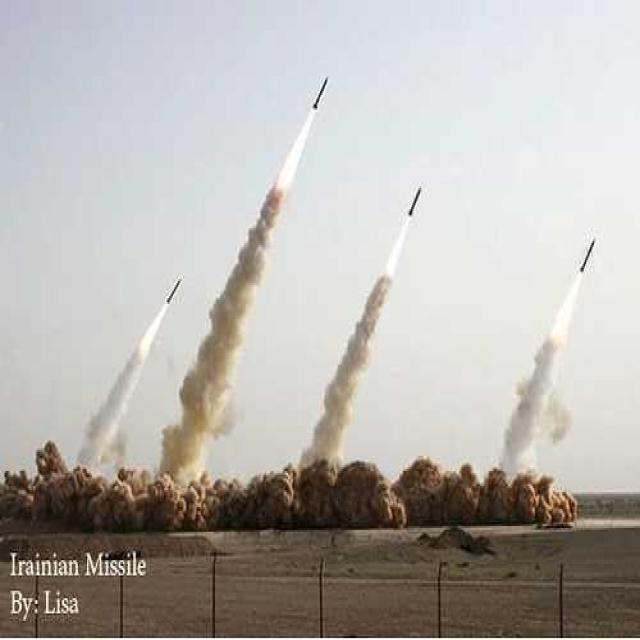missile: (311, 70, 330, 111), (402, 186, 422, 221), (578, 239, 596, 277), (162, 276, 186, 302)
